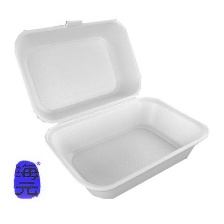foam_box: (10, 13, 212, 202)
